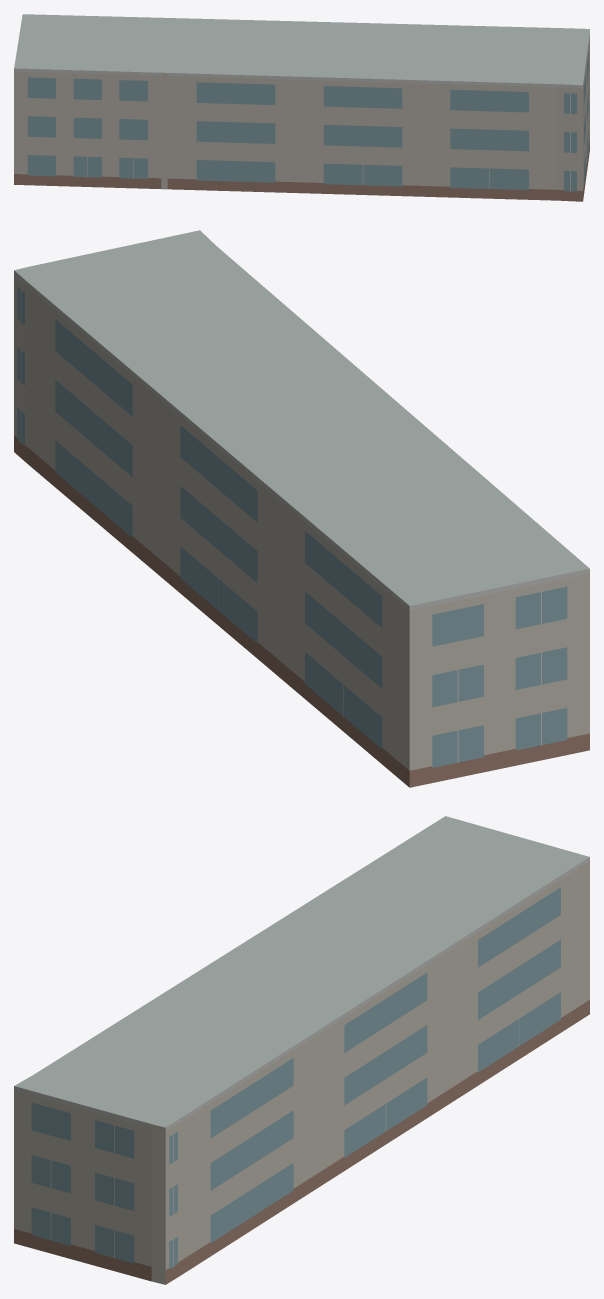
Rendered from survey-upis-32479094.glb.
The picture shows the model from 3 angles, top to bottom: view 1: azimuth 30°, elevation 25°; view 2: azimuth 150°, elevation 25°; view 3: azimuth 270°, elevation 25°; orthographic projection. The views are drawn at different scales.
Visible parts, largest first — view 1: survey-upis-32479094.tmp; view 2: survey-upis-32479094.tmp; view 3: survey-upis-32479094.tmp.
Boxes of the visible parts, x1=… form: survey-upis-32479094.tmp: x1=14, y1=14, x2=589, y2=201; survey-upis-32479094.tmp: x1=14, y1=230, x2=589, y2=787; survey-upis-32479094.tmp: x1=14, y1=816, x2=589, y2=1284.
Size of the model in its own units: 38.86 by 9.15 by 30.36.
